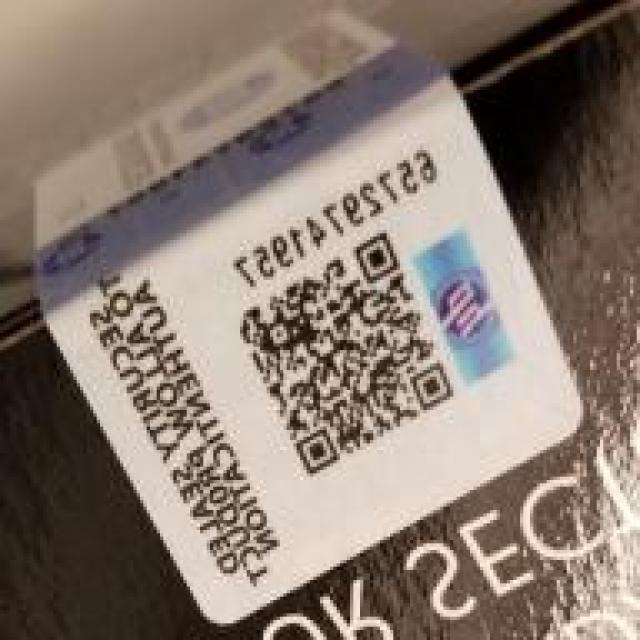QR_CODE: (233, 222, 460, 486)
